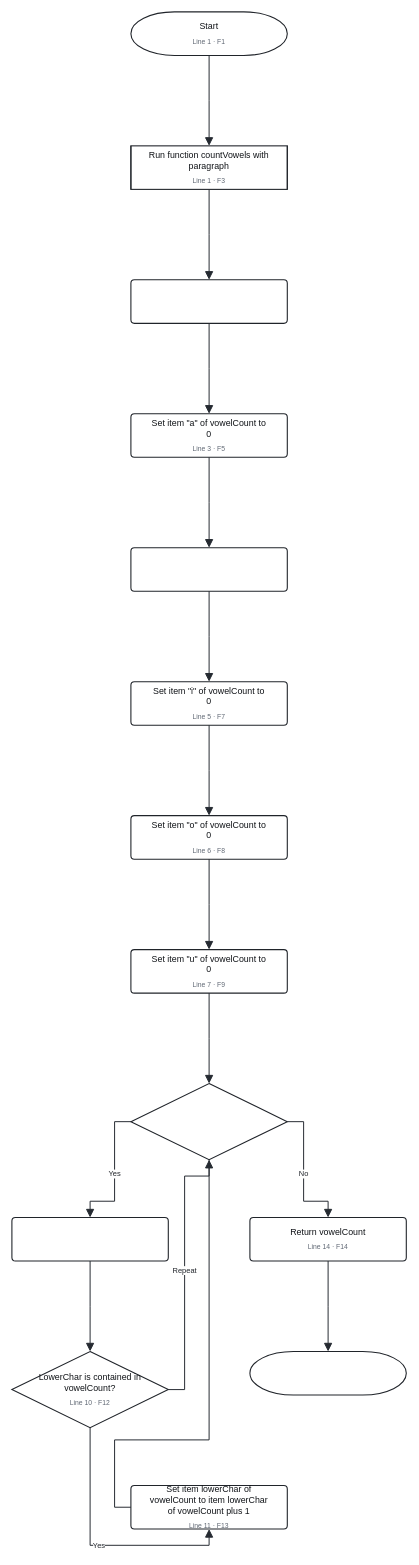
This 419x1565 diagram has some shape labels left out. Here are the shapes that lost their labels. From the top down, the centre of each, then its label:
(209,301): Set vowelCount to an empty dictionary Line 2 · F4
(209,569): Set item "e" of vowelCount to 0 Line 4 · F6
(209,1121): For each __reserved_keyword__char in paragraph Line 8 · F10
(90,1239): Set lowerChar to the result of lowercase(__reserved_keyword__char) Line 9 · F11
(328,1373): End Line 1 · F2
